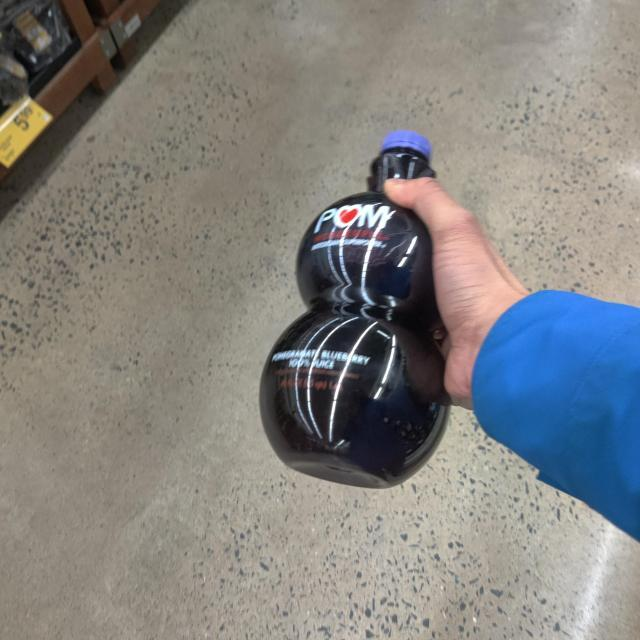Juice: (263, 134, 448, 490)
